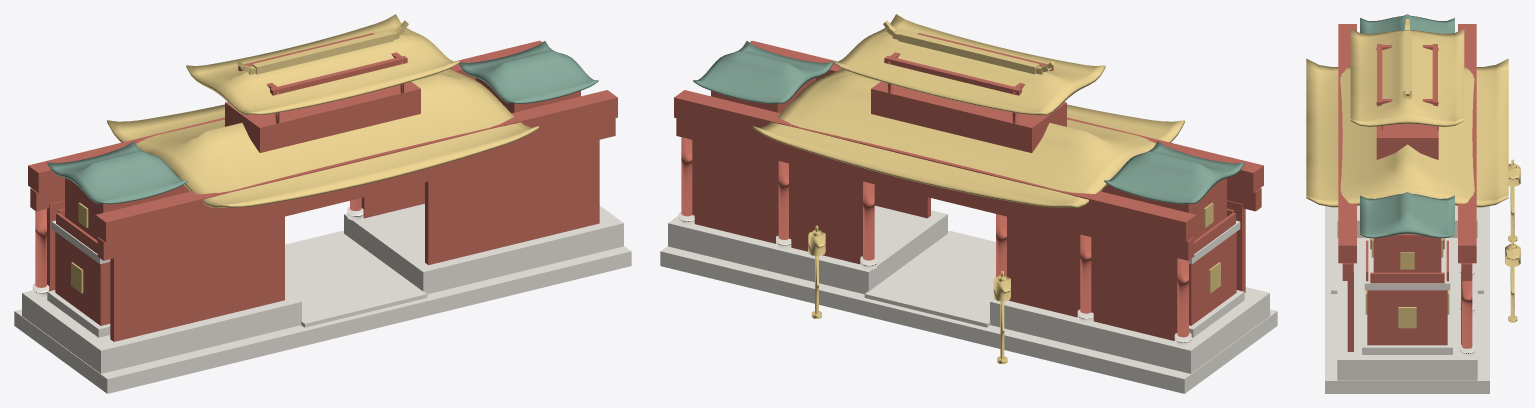
Rendered from lib_nam_mon.lod.glb.
3 views of the same model, side by side, from view 1: azimuth 30°, elevation 25°; view 2: azimuth 150°, elevation 25°; view 3: azimuth 270°, elevation 25° (orthographic). The views are drawn at different scales.
Parts seen in each view (by area): view 1: nam_mon_dai_cot; view 2: nam_mon_dai_cot; view 3: nam_mon_dai_cot.
Boxes of the visible parts, x1,y1,x2,y2 form: nam_mon_dai_cot: (14, 14, 631, 393); nam_mon_dai_cot: (660, 14, 1277, 393); nam_mon_dai_cot: (1306, 14, 1520, 393).
Size of the model in its own units: 26.01 by 12.08 by 10.38.
1 material, 1 textured.
